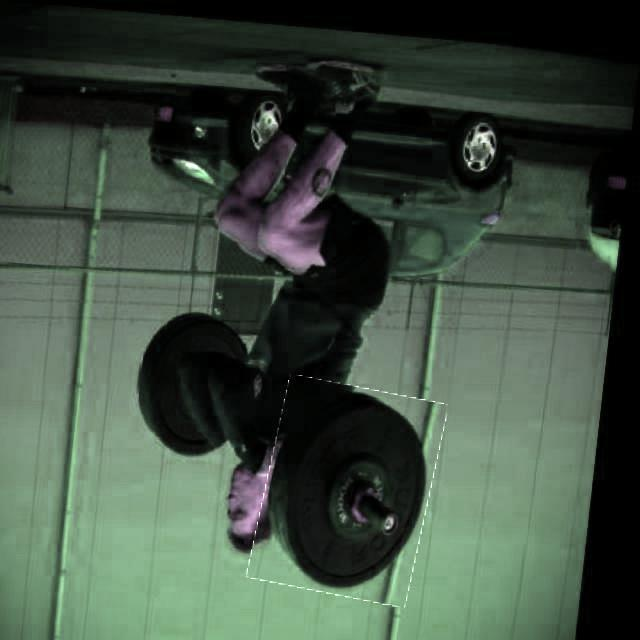barbell: (263, 372, 454, 597)
